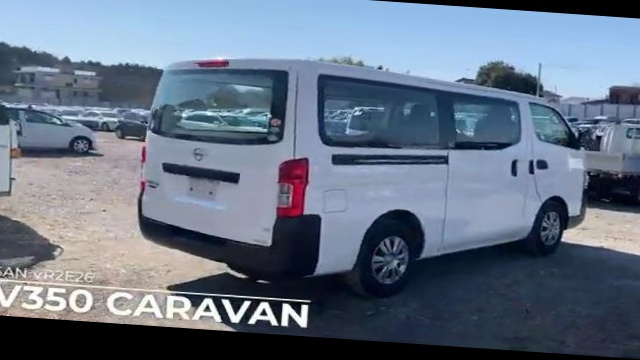van: (127, 46, 595, 302)
